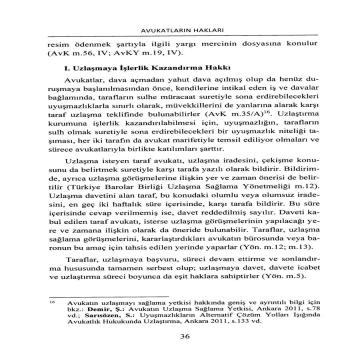footer: (63, 300, 327, 324)
header: (133, 26, 229, 34)
